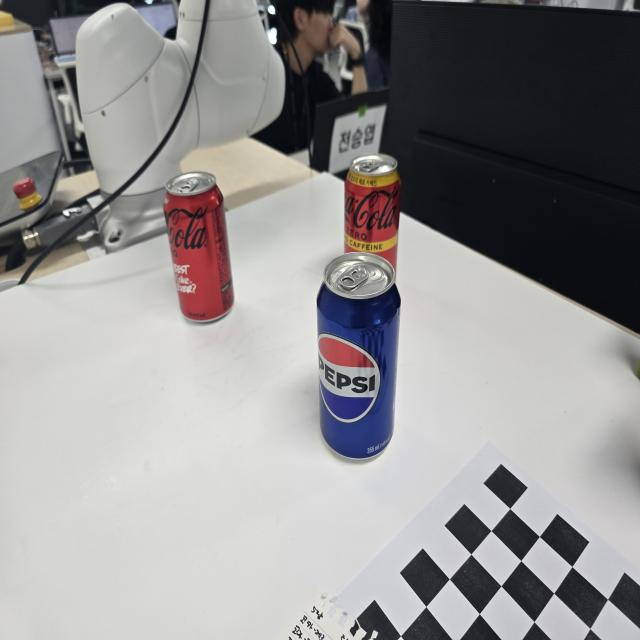can_coke_zero: (162, 172, 234, 326)
can_pepsi: (316, 248, 402, 453)
